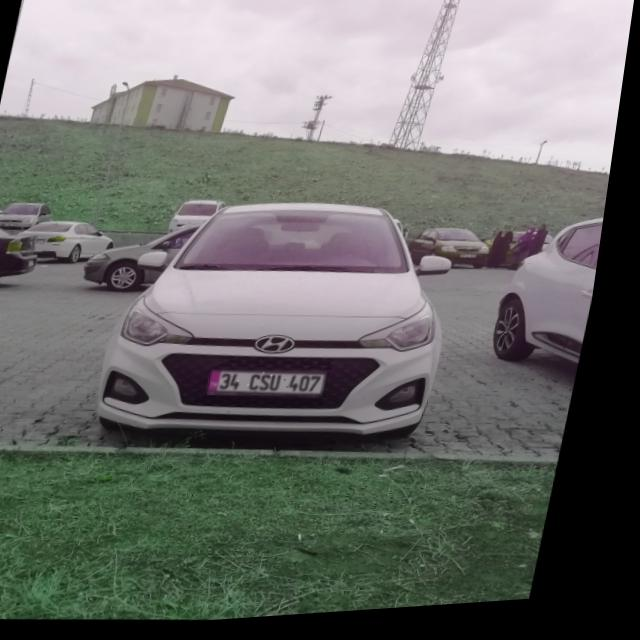license_plate: (218, 367, 339, 407)
